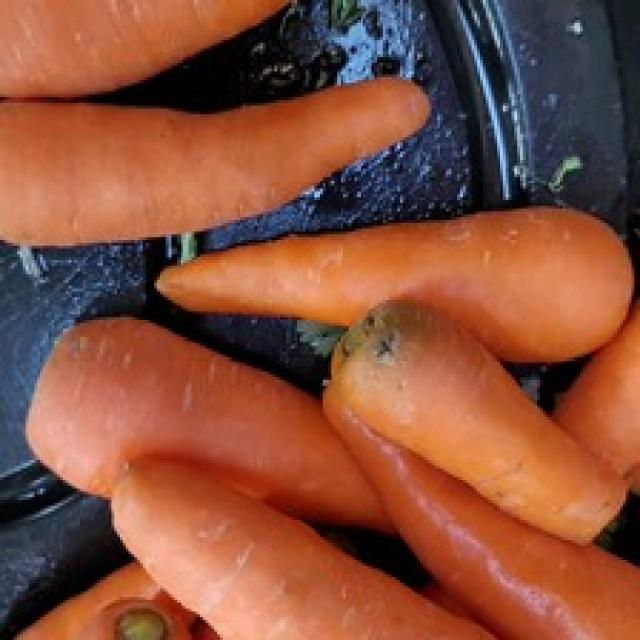Fresh_Carrot: (26, 320, 402, 539), (0, 70, 432, 248)
Stale_Carrot: (330, 305, 637, 554)
